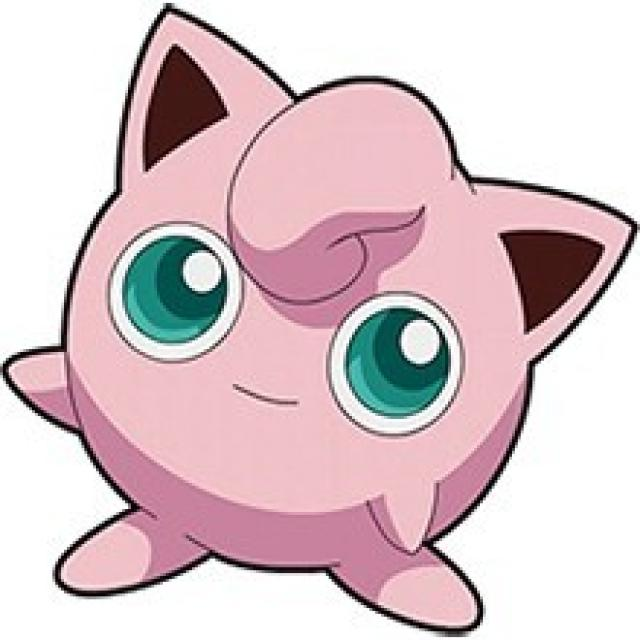Jigglypuff: (66, 74, 534, 595)
